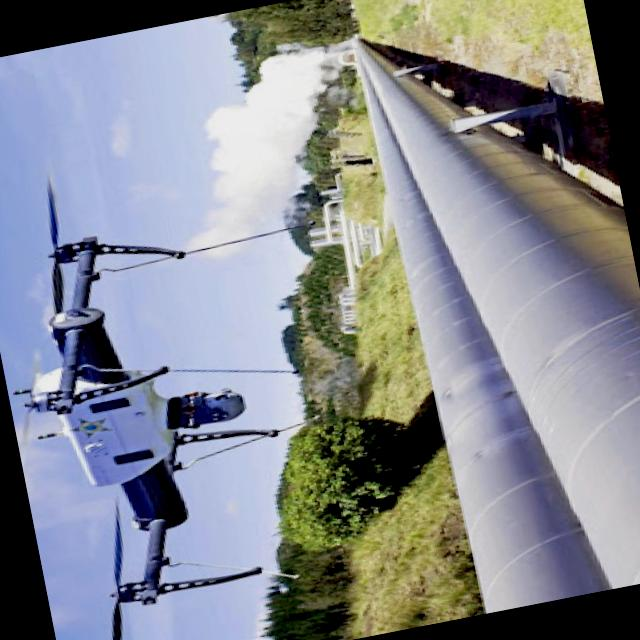gas: (351, 41, 640, 589), (359, 59, 611, 613)
